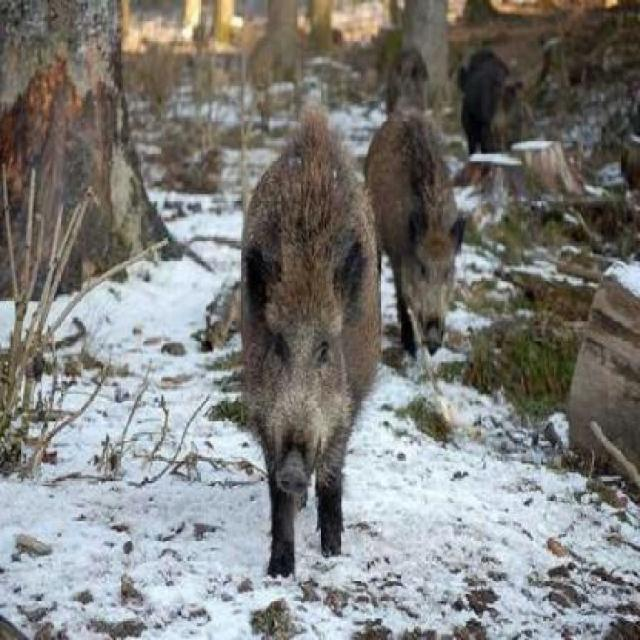Boar: (226, 90, 379, 556), (369, 95, 469, 352)
